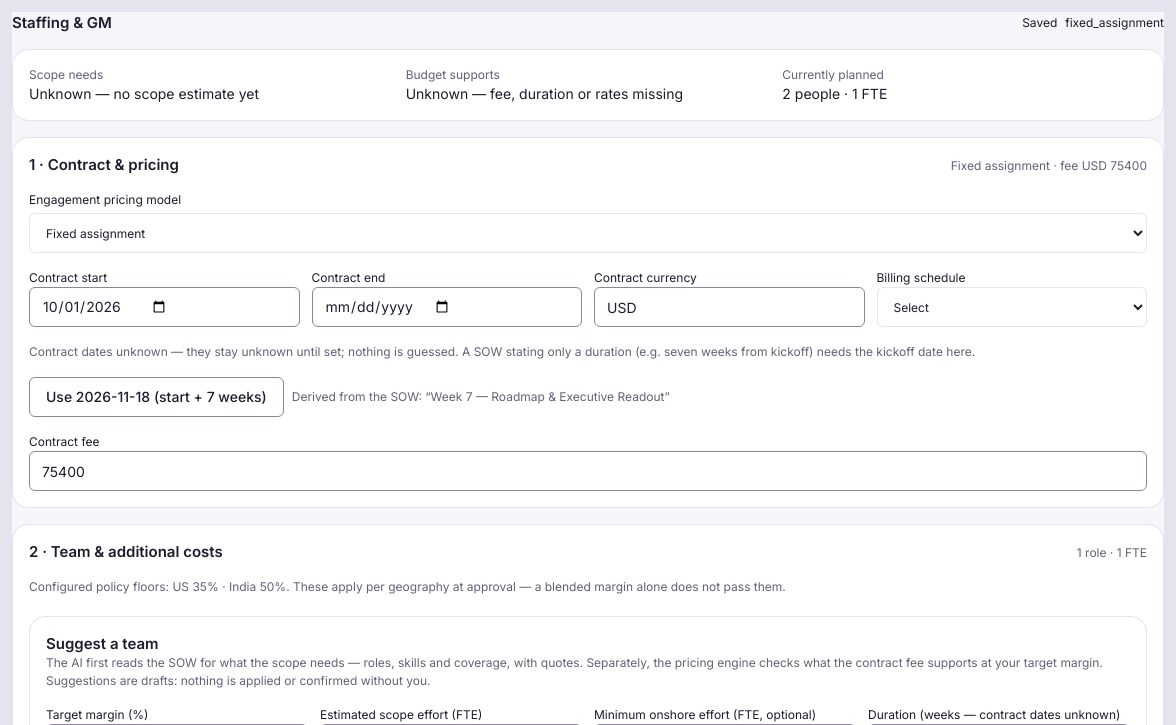
Test: Staffing & GM simplified plan › derives the contract end date from the SOW's stated duration on click (never silently)
Check: the element with test id "editor-term-assist" shows "Week 7 — Roadmap & Executive Readout", box [431,389,664,404]
Check: the date field labelled "Contract end" is empty, box [312,287,582,327]
Click the button with test id "editor-term-assist-apply" at (156, 397), box [29,377,284,417]
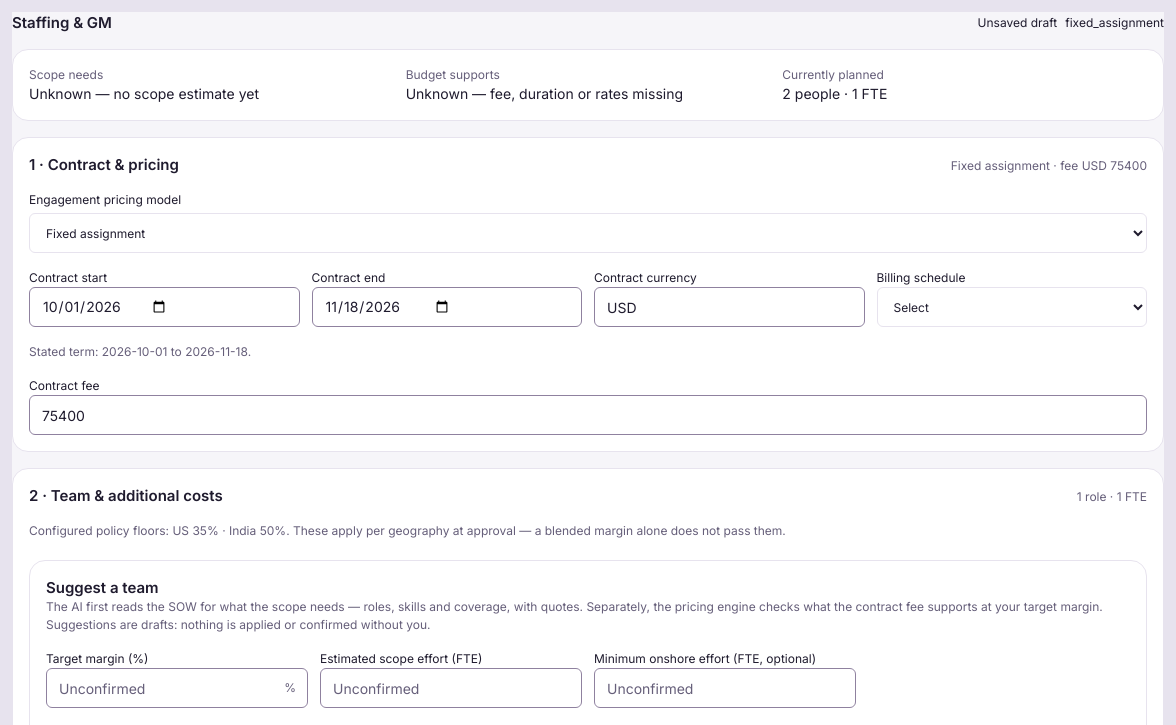
Check: the date field labelled "Contract end" holds "2026-11-18", box [312,287,582,327]
